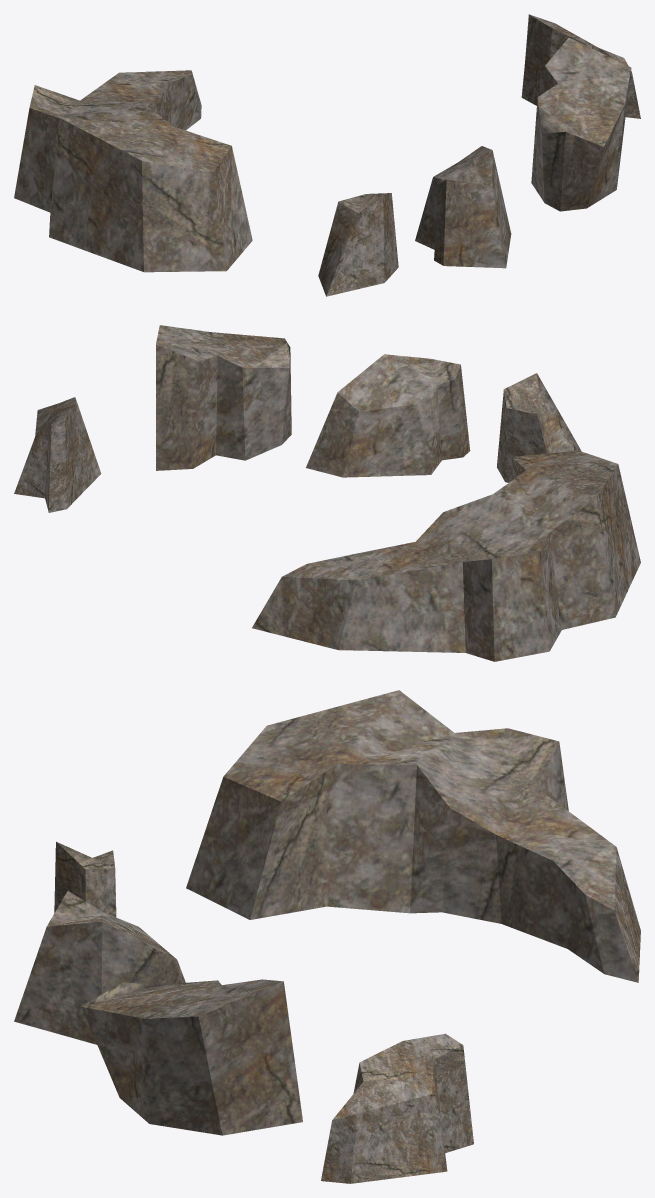
The model's file is RckM05.glb.
The picture shows the model from 3 angles, top to bottom: view 1: azimuth 30°, elevation 25°; view 2: azimuth 150°, elevation 25°; view 3: azimuth 270°, elevation 25°; orthographic projection. The views are drawn at different scales.
Visible parts, largest first — view 1: _RckM05; view 2: _RckM05; view 3: _RckM05.
Boxes of the visible parts, x1,y1,x2,y2 form: _RckM05: (14, 14, 640, 296); _RckM05: (14, 325, 640, 661); _RckM05: (14, 690, 640, 1183).
Bounding box in the file's own units: 10.54 × 2 × 7.81.
Materials: 1 (1 with a texture image).
